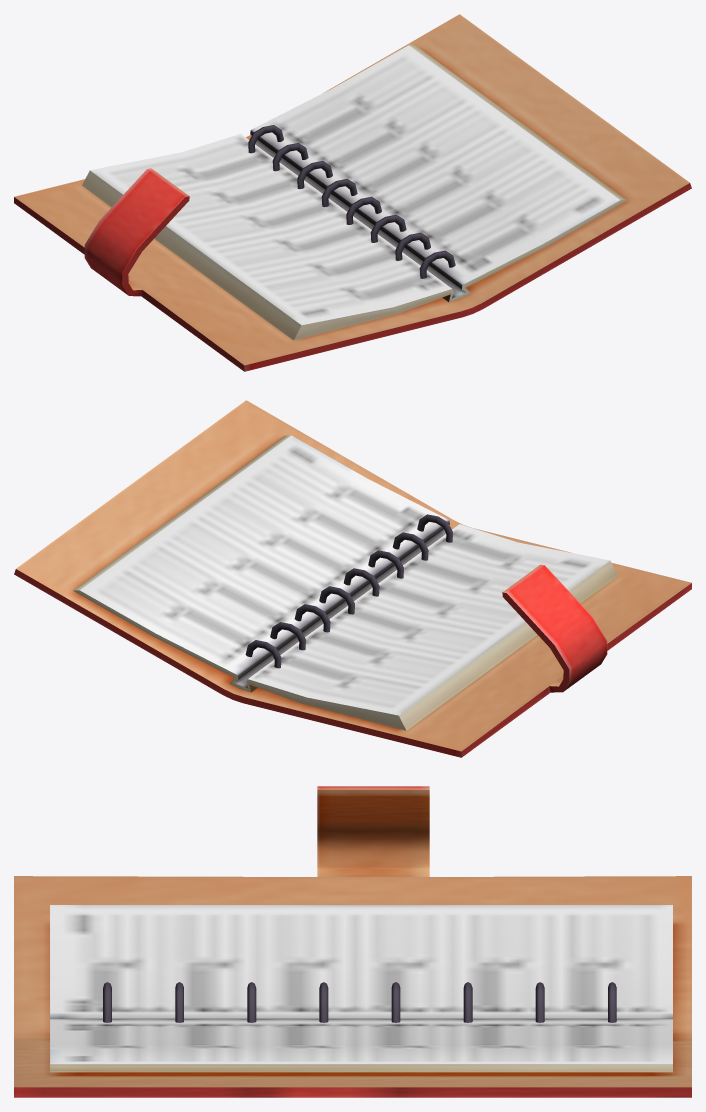
Rendered from ZhiBanShi_01_huoyejia_01.FBX.
The picture shows the model from 3 angles, top to bottom: view 1: azimuth 30°, elevation 25°; view 2: azimuth 150°, elevation 25°; view 3: azimuth 270°, elevation 25°; orthographic projection. The views are drawn at different scales.
Visible parts, largest first — view 1: ZhiBanShi_huoyejia_01; view 2: ZhiBanShi_huoyejia_01; view 3: ZhiBanShi_huoyejia_01.
Part boxes in pixels (x1,y1,x2,y2): ZhiBanShi_huoyejia_01: (14, 14, 691, 371); ZhiBanShi_huoyejia_01: (14, 400, 691, 757); ZhiBanShi_huoyejia_01: (14, 786, 691, 1097).
Bounding box in the file's own units: 143 × 26.01 × 122.
